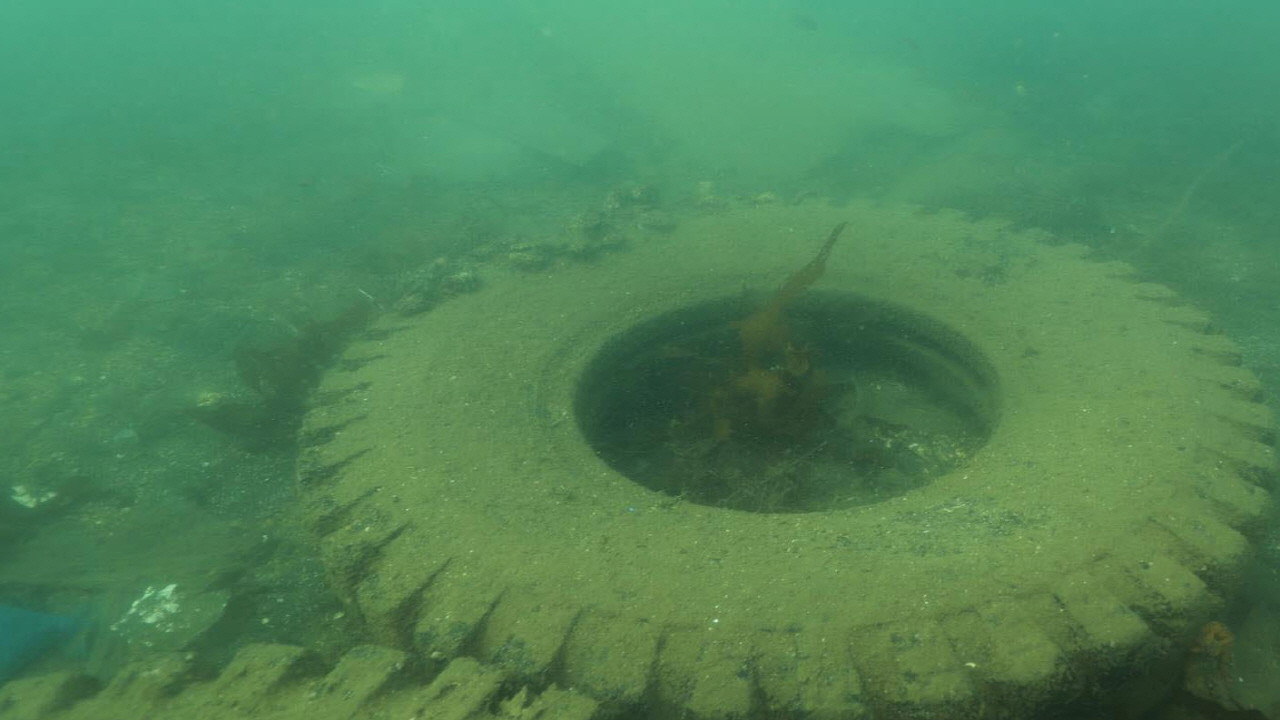tire: (300, 190, 1280, 720), (5, 613, 622, 720)
